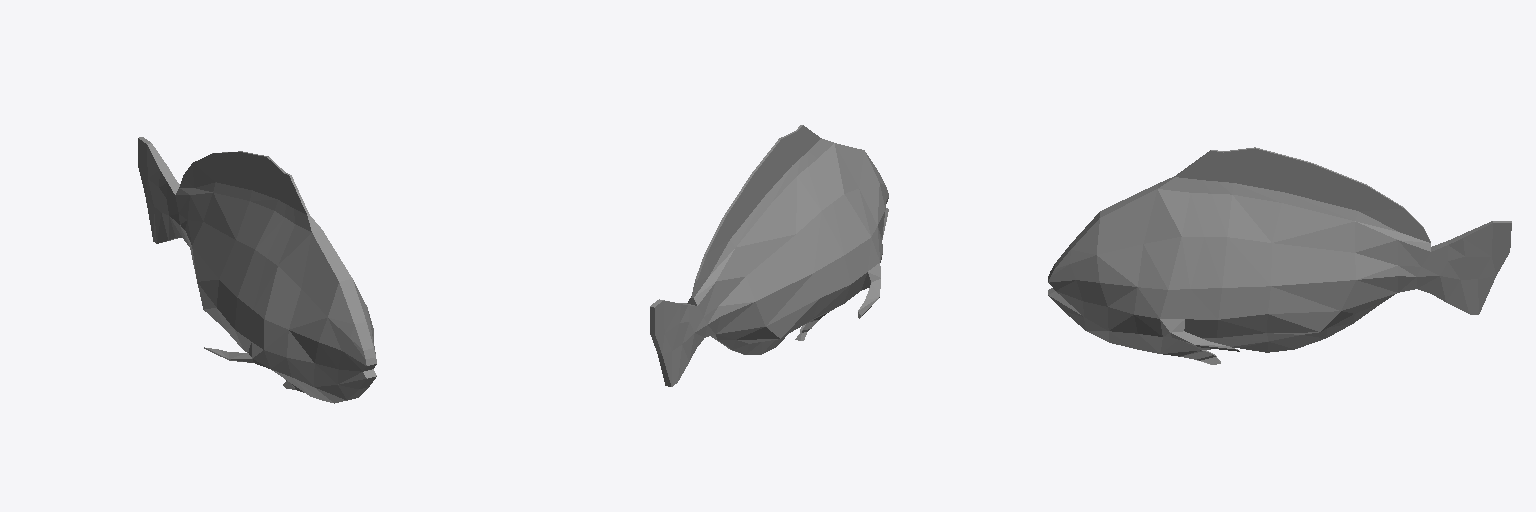
The model's file is TropicalFish02.obj.
3 views of the same model, side by side, from view 1: azimuth 30°, elevation 25°; view 2: azimuth 150°, elevation 25°; view 3: azimuth 270°, elevation 25° (orthographic).
Parts seen in each view (by area): view 1: TropicalFish02; view 2: TropicalFish02; view 3: TropicalFish02.
Boxes of the visible parts, box(x1,y1,x2,y2) form: TropicalFish02: box(138, 137, 376, 403); TropicalFish02: box(650, 125, 888, 386); TropicalFish02: box(1048, 147, 1511, 364).
Bounding box in the file's own units: 2.79 × 3.98 × 7.73.